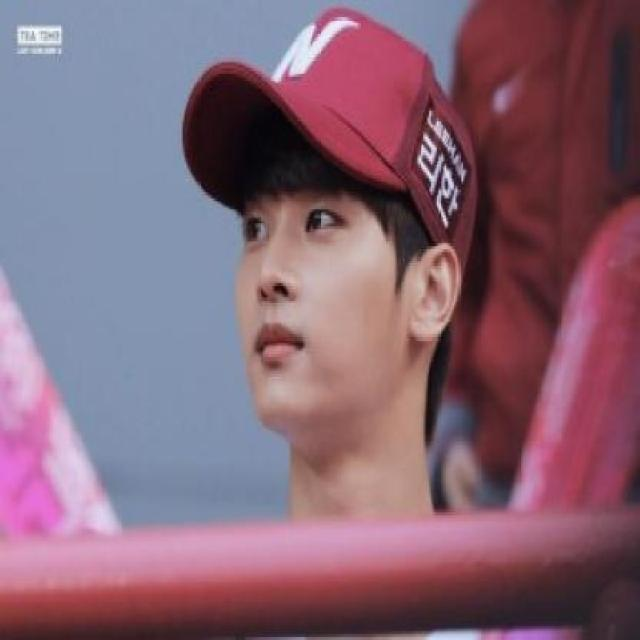hat: (178, 3, 478, 300)
